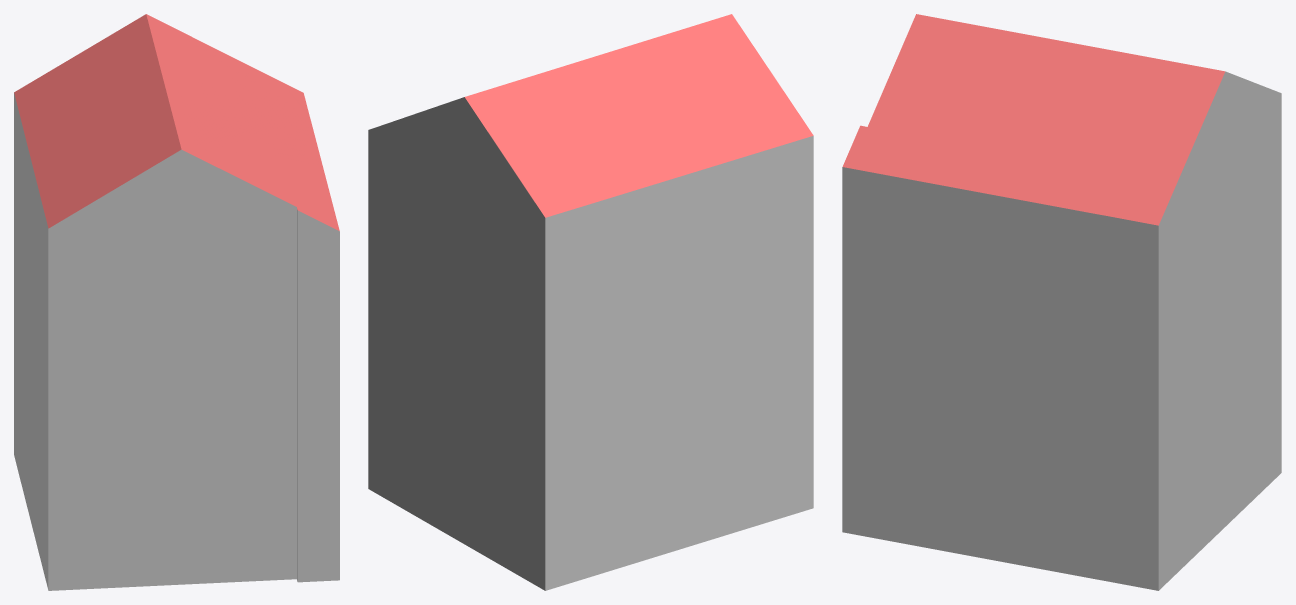
File: DEBY_LOD2_4907147.gltf
3 renders of one model, left to right at view 1: azimuth 30°, elevation 25°; view 2: azimuth 150°, elevation 25°; view 3: azimuth 270°, elevation 25°, orthographic. The views are drawn at different scales.
Parts seen in each view (by area): view 1: Z_UP; view 2: Z_UP; view 3: Z_UP.
Part boxes in pixels (x1=…): Z_UP: x1=14, y1=14, x2=339, y2=590; Z_UP: x1=368, y1=14, x2=813, y2=590; Z_UP: x1=842, y1=14, x2=1281, y2=590.
Bounding box in the file's own units: 17.95 × 21.68 × 18.94.
